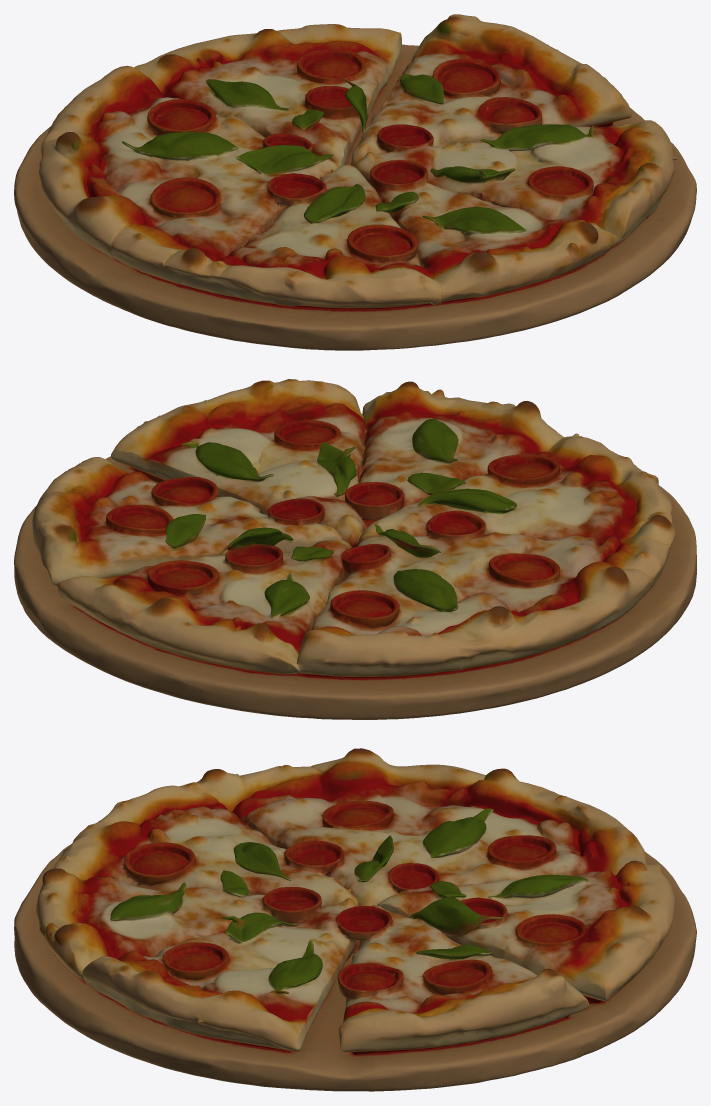
Rendered from pizza 2.glb.
The picture shows the model from 3 angles, top to bottom: view 1: azimuth 30°, elevation 25°; view 2: azimuth 150°, elevation 25°; view 3: azimuth 270°, elevation 25°; orthographic projection.
Parts seen in each view (by area): view 1: tripo_node_66ef74e7-e49f-4780-891f-c41c03ea8bfd; view 2: tripo_node_66ef74e7-e49f-4780-891f-c41c03ea8bfd; view 3: tripo_node_66ef74e7-e49f-4780-891f-c41c03ea8bfd.
Boxes of the visible parts, x1,y1,x2,y2 form: tripo_node_66ef74e7-e49f-4780-891f-c41c03ea8bfd: (14, 14, 696, 350); tripo_node_66ef74e7-e49f-4780-891f-c41c03ea8bfd: (14, 379, 696, 719); tripo_node_66ef74e7-e49f-4780-891f-c41c03ea8bfd: (14, 748, 696, 1091).
Bounding box in the file's own units: 1 × 0.1234 × 1.
Materials: 1 (1 with a texture image).
